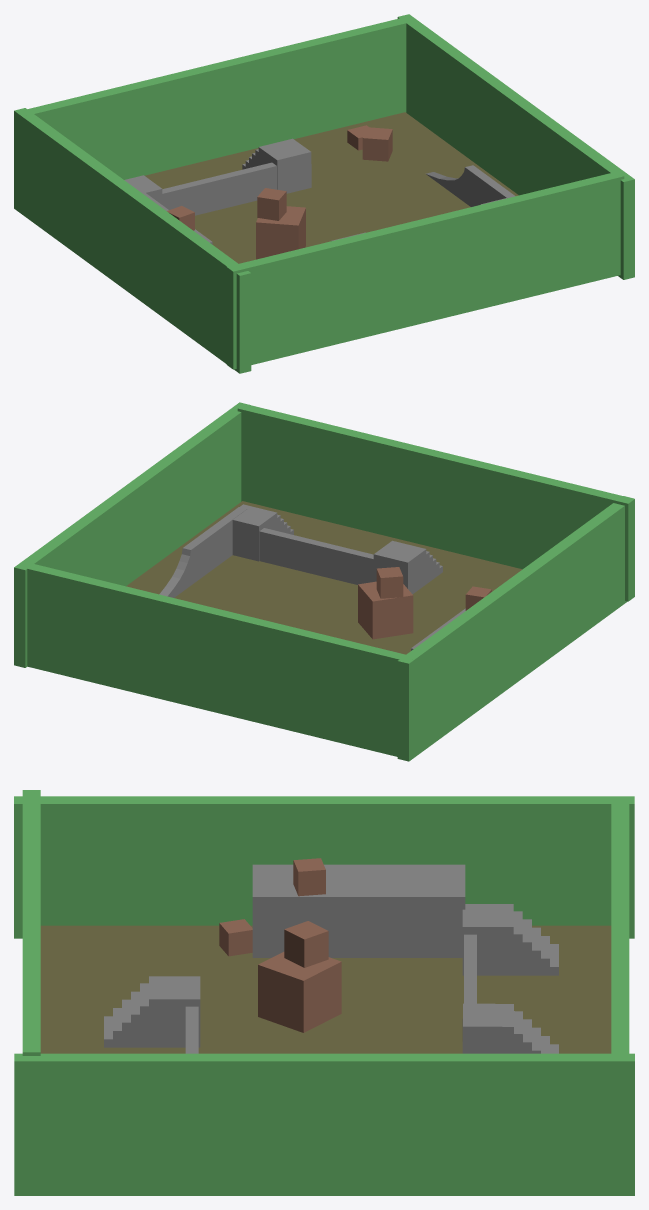
Rendered from JUKarenaTEST (1).fbx.
3 views of the same model, one above another, from view 1: azimuth 30°, elevation 25°; view 2: azimuth 150°, elevation 25°; view 3: azimuth 270°, elevation 25° (orthographic). The views are drawn at different scales.
Parts seen in each view (by area): view 1: Cube, Cube.002, Cube.004, Plane, Cube.003, Cube.008, Cube.010, Cube.012, Cube.017, Cube.018, Cube.011; view 2: Cube.002, Cube, Cube.004, Cube.003, Plane, Cube.007, Cube.017, Cube.012, Cube.006, Cube.005, Cube.011; view 3: Cube.003, Cube.004, Plane, Cube.013, Cube.006, Cube.009, Cube.012, Cube.014, Cube, Cube.002, Cube.010, Cube.011 (+4 smaller).
Part boxes in pixels (bbox=[...]): Cube: bbox=[226, 171, 624, 369]; Cube.002: bbox=[18, 16, 414, 179]; Cube.004: bbox=[14, 108, 251, 373]; Plane: bbox=[145, 112, 518, 263]; Cube.003: bbox=[397, 14, 634, 279]; Cube.008: bbox=[162, 162, 276, 215]; Cube.010: bbox=[242, 138, 311, 193]; Cube.012: bbox=[256, 206, 305, 259]; Cube.017: bbox=[425, 165, 515, 206]; Cube.018: bbox=[362, 127, 392, 161]; Cube.011: bbox=[257, 188, 286, 220]; Cube.002: bbox=[19, 562, 415, 756]; Cube: bbox=[237, 403, 634, 601]; Cube.004: bbox=[397, 496, 633, 761]; Cube.003: bbox=[14, 402, 250, 667]; Plane: bbox=[126, 501, 522, 654]; Cube.007: bbox=[259, 528, 373, 584]; Cube.017: bbox=[159, 507, 246, 597]; Cube.012: bbox=[358, 581, 413, 639]; Cube.006: bbox=[373, 540, 442, 594]; Cube.005: bbox=[232, 504, 293, 561]; Cube.011: bbox=[376, 567, 403, 598]; Cube.003: bbox=[14, 1053, 634, 1195]; Cube.004: bbox=[14, 796, 634, 938]; Plane: bbox=[40, 925, 611, 1053]; Cube.013: bbox=[252, 892, 465, 957]; Cube.006: bbox=[104, 976, 200, 1047]; Cube.009: bbox=[462, 904, 558, 975]; Cube.012: bbox=[258, 952, 341, 1032]; Cube.014: bbox=[252, 864, 465, 892]; Cube: bbox=[22, 790, 40, 1055]; Cube.002: bbox=[611, 797, 629, 1059]; Cube.010: bbox=[462, 1003, 558, 1053]; Cube.011: bbox=[284, 921, 328, 967].
Bounding box in the file's own units: 847 × 205 × 831.
